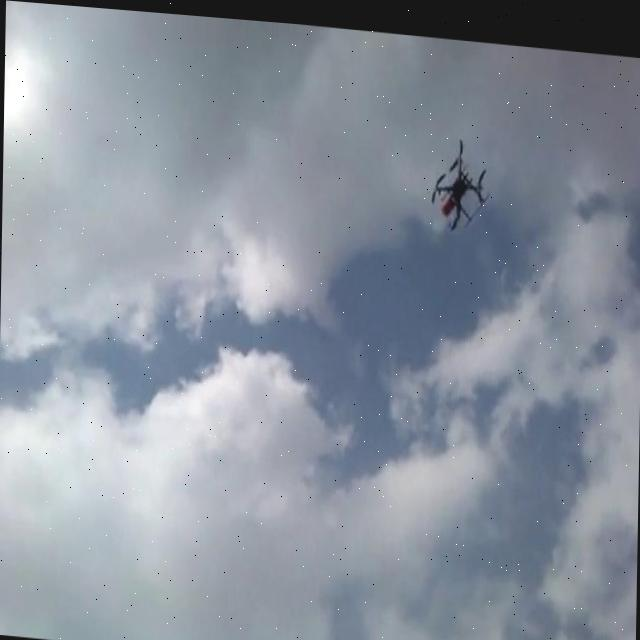drone: (427, 123, 491, 226)
